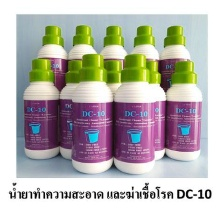cleaning_solution: (68, 52, 117, 177), (111, 52, 158, 177), (91, 58, 137, 160), (126, 58, 169, 162), (162, 58, 204, 163), (20, 56, 60, 161), (57, 58, 93, 163), (155, 22, 193, 113), (127, 22, 163, 114), (64, 22, 98, 108), (33, 22, 65, 109), (96, 22, 127, 109)
